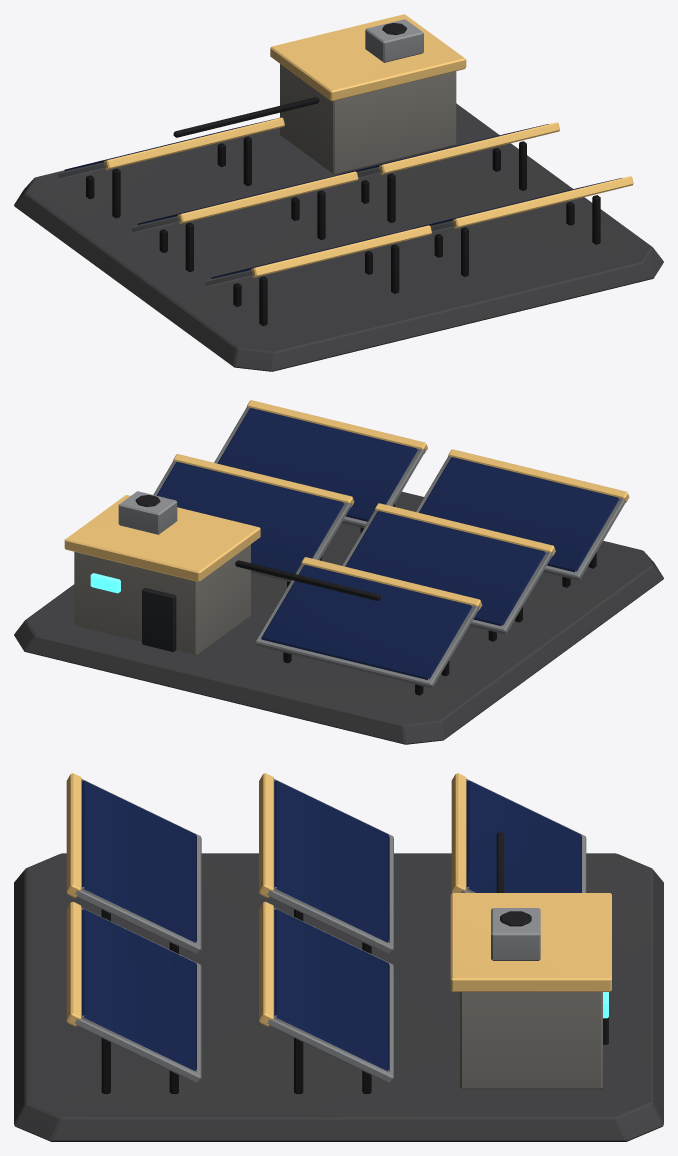
Rendered from solar_plant.glb.
3 views of the same model, one above another, from view 1: azimuth 30°, elevation 25°; view 2: azimuth 150°, elevation 25°; view 3: azimuth 270°, elevation 25° (orthographic). The views are drawn at different scales.
Visible parts, largest first — view 1: solar_plant; view 2: solar_plant; view 3: solar_plant.
Part boxes in pixels (x1,y1,x2,y2): solar_plant: [14, 14, 663, 371]; solar_plant: [14, 400, 663, 744]; solar_plant: [14, 773, 663, 1141].
Size of the model in its own units: 2.09 by 0.592 by 2.09.
